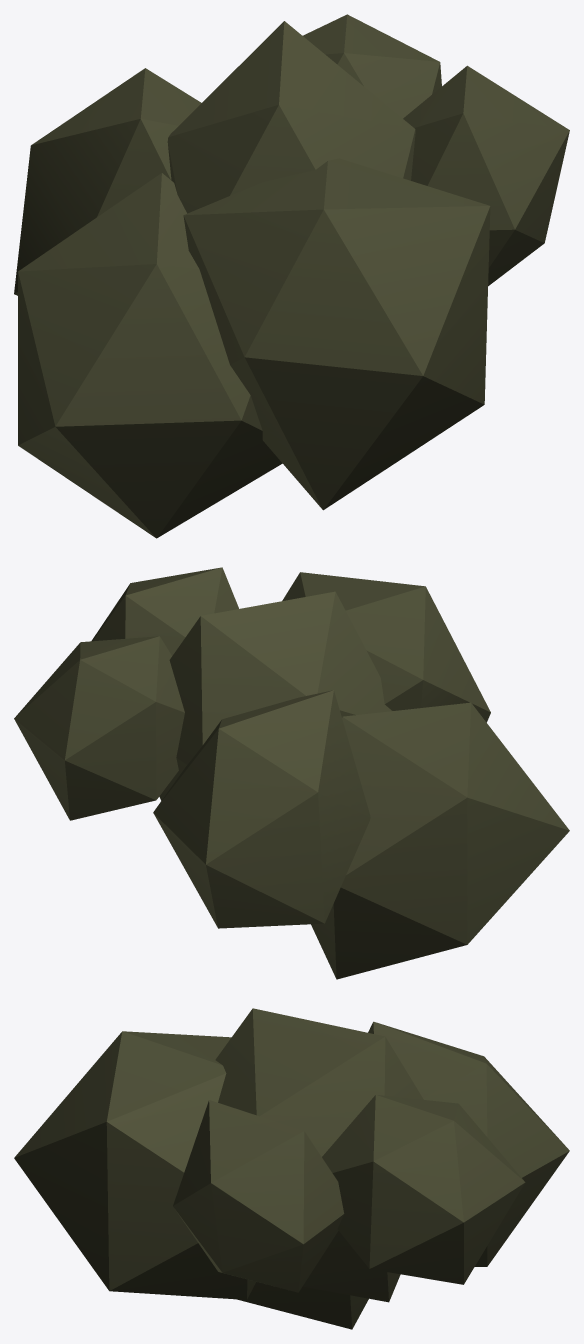
Rendered from shrub_b.glb.
The picture shows the model from 3 angles, top to bottom: view 1: azimuth 30°, elevation 25°; view 2: azimuth 150°, elevation 25°; view 3: azimuth 270°, elevation 25°; orthographic projection. The views are drawn at different scales.
Parts seen in each view (by area): view 1: Body_LOD0; view 2: Body_LOD0; view 3: Body_LOD0.
Boxes of the visible parts, box(x1,y1,x2,y2) form: Body_LOD0: box(14, 14, 569, 538); Body_LOD0: box(14, 567, 569, 979); Body_LOD0: box(14, 1008, 569, 1329).
Bounding box in the file's own units: 3.29 × 2.43 × 3.47.
